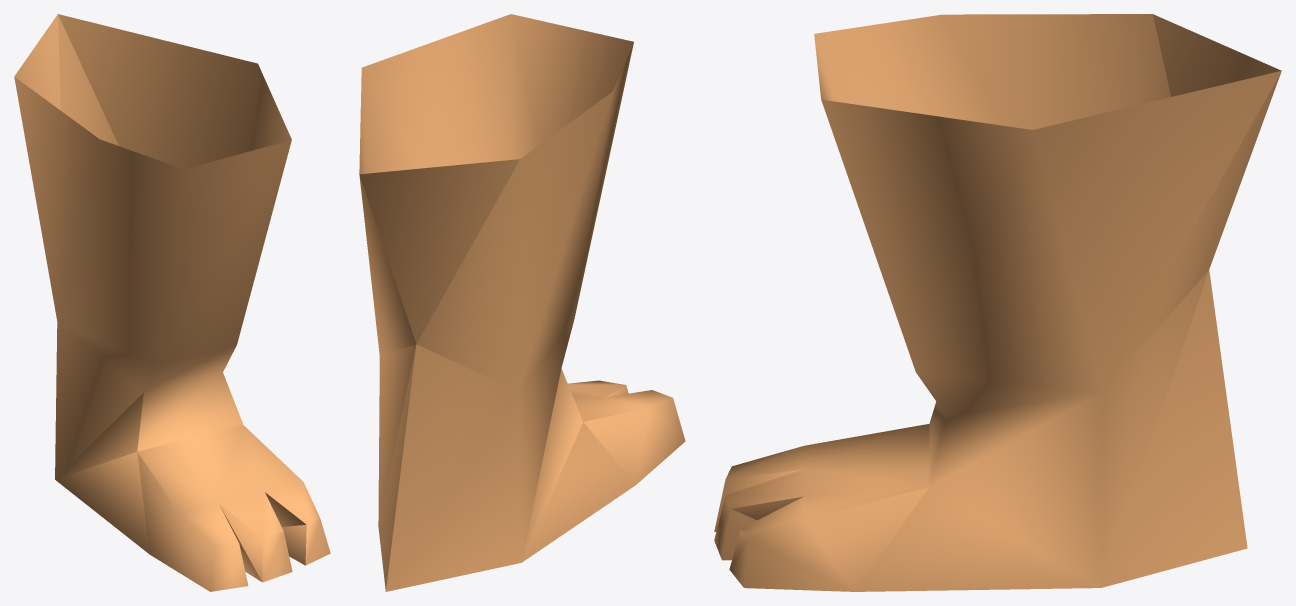
File: pieDer.obj
3 views of the same model, side by side, from view 1: azimuth 30°, elevation 25°; view 2: azimuth 150°, elevation 25°; view 3: azimuth 270°, elevation 25° (orthographic). The views are drawn at different scales.
Parts seen in each view (by area): view 1: polySurface1 pedro:Mesh; view 2: polySurface1 pedro:Mesh; view 3: polySurface1 pedro:Mesh.
Part boxes in pixels (<box>): polySurface1 pedro:Mesh: <box>14,14,330,591</box>; polySurface1 pedro:Mesh: <box>359,14,685,591</box>; polySurface1 pedro:Mesh: <box>714,14,1281,591</box>.
Size of the model in its own units: 1.13 by 2.19 by 2.32.
Materials: 1 (1 with a texture image).
